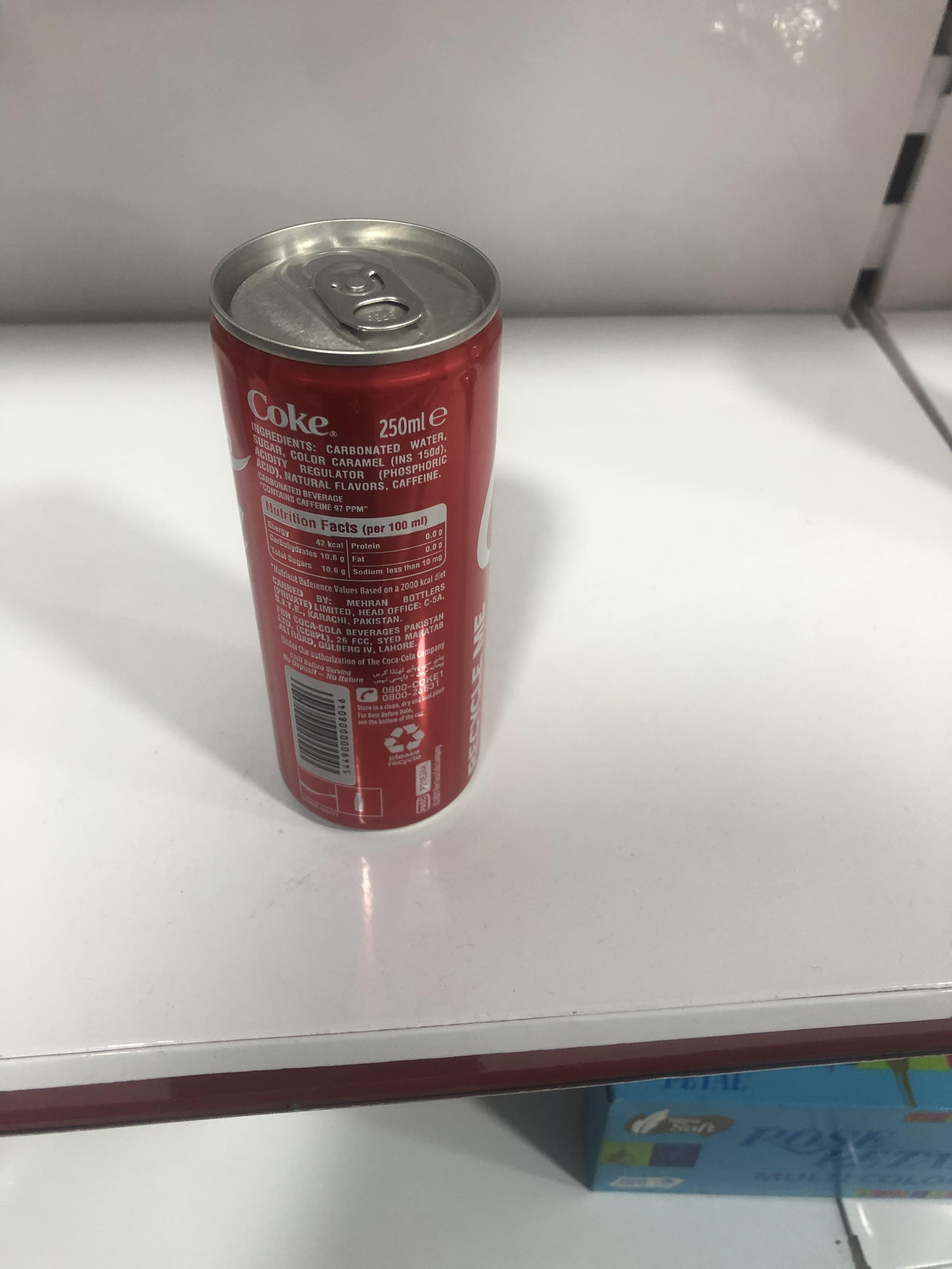tin can: (196, 215, 513, 834)
